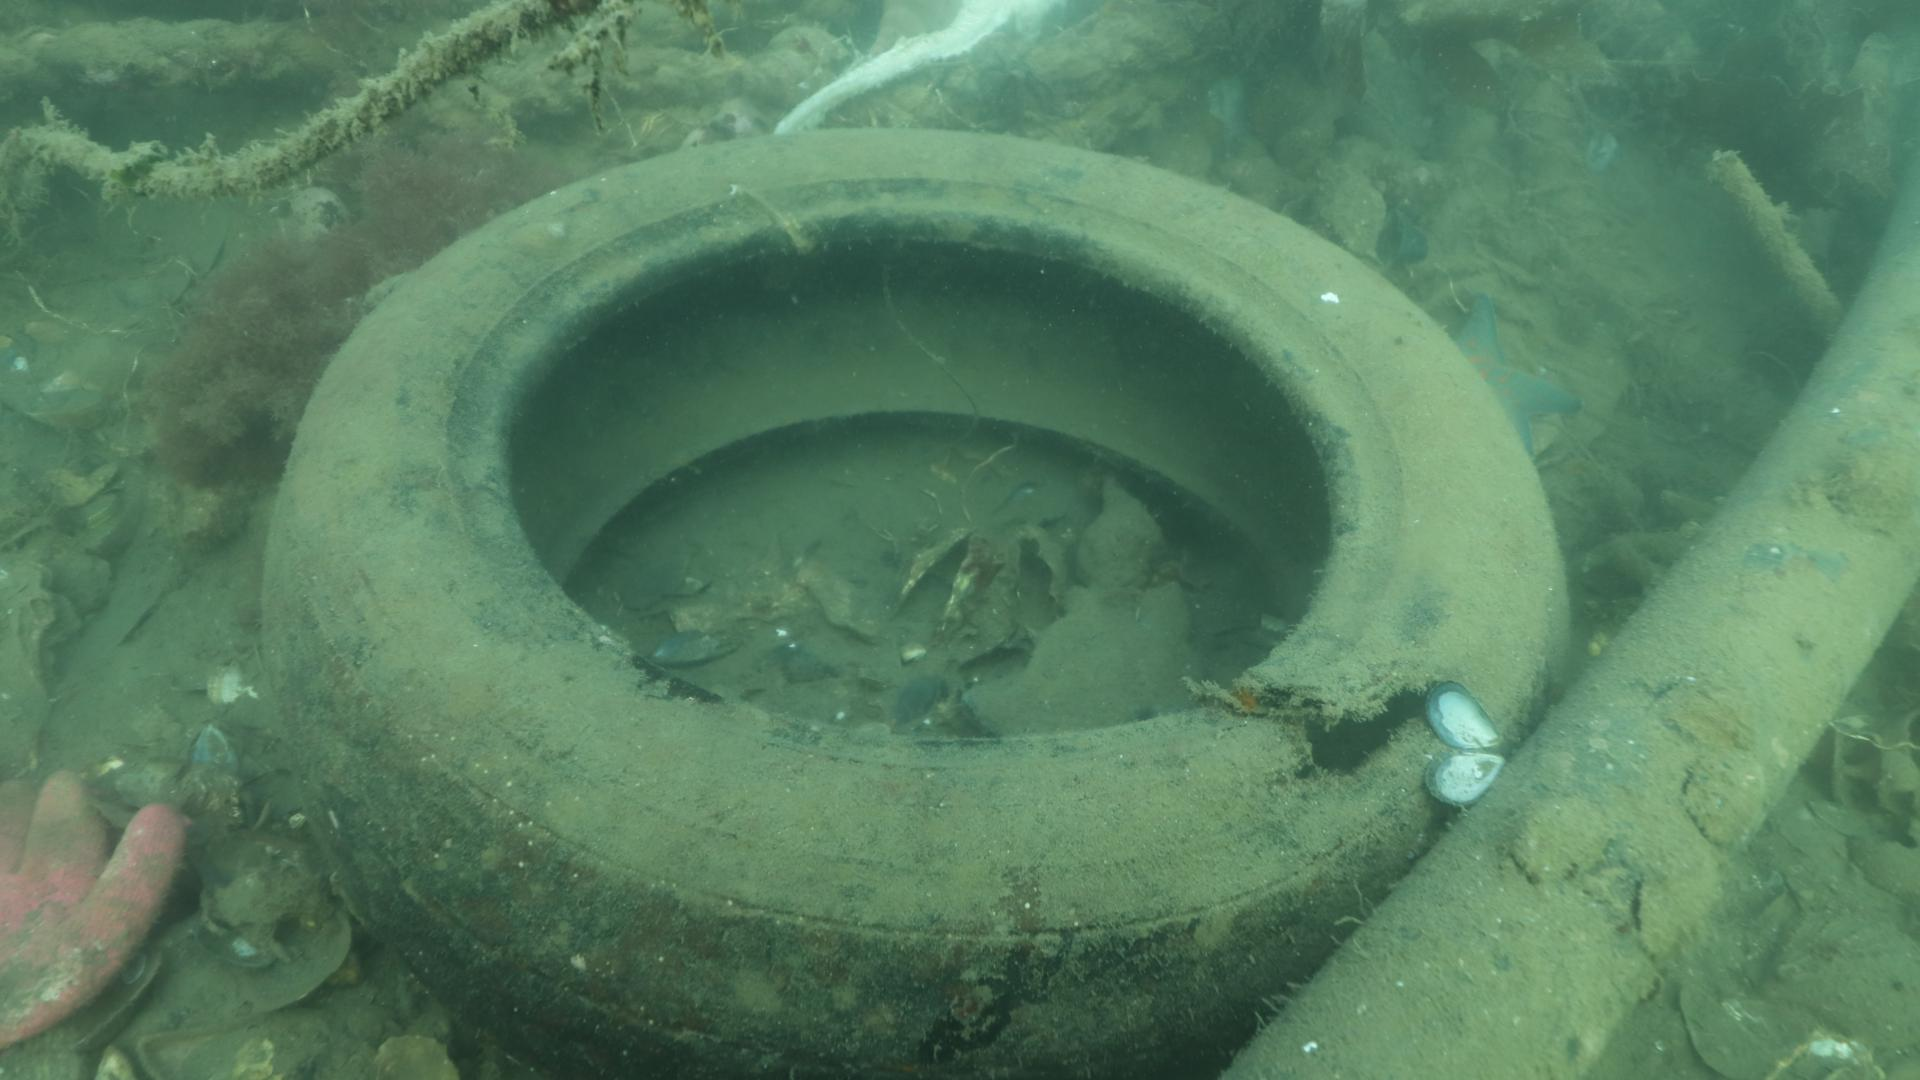bundle of ropes: (0, 0, 1280, 199)
tire: (258, 127, 1573, 1080)
